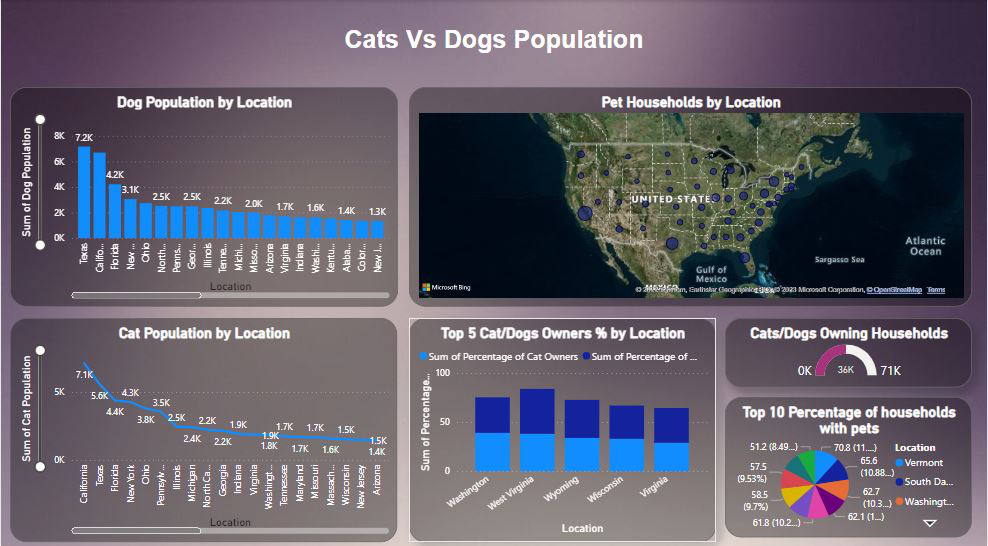

Layout of this report page (visuals, bound fields, positions):
{"tool":"powerbi","page":{"name":"Cats Vs Dogs Population","canvas":[1306,726],"ordinal":0},"visuals":[{"type":"lineChart","title":"Cat Population by Location","fields":{"Category":["States.Location"],"Y":["Sum(States.Cat Population)"]},"box":[12.3,421.6,513.4,297.1],"z":0},{"type":"pieChart","title":"Top 10 Percentage of households with pets ","fields":{"Y":["Sum(States.Percentage of households with pets)"],"Category":["States.Location"]},"box":[959.6,525.7,327.2,186.2],"z":1000},{"type":"map","title":"Pet Households  by Location","fields":{"Size":["Sum(States.Pet Households )"],"Category":["States.Location"]},"box":[540.5,115.3,745.9,291.5],"z":2000},{"type":"clusteredColumnChart","title":"Dog Population  by Location","fields":{"Category":["States.Location"],"Y":["Sum(States.Dog Population )"]},"box":[11.9,115.3,514,291.5],"z":3000},{"type":"gauge","title":"Cats/Dogs Owning Households","fields":{"Y":["Sum(States.Cat Owning Households)"]},"box":[959.6,421.6,327.2,91.7],"z":3001},{"type":"lineStackedColumnComboChart","title":"Top 5 Cat/Dogs  Owners % by Location","fields":{"Y":["Sum(States.Percentage of Cat Owners)","Sum(States.Percentage of Dog Owners)"],"Category":["States.Location"]},"box":[540.7,421.6,406.6,297.1],"z":3002},{"type":"textbox","title":"Cats  Vs Dogs Population","box":[318,33.1,670.4,64.9],"z":3003}]}

Visuals, with their boxes in screenshot pixels (x1, y1, x2, y2), scaled from the page's 1306x726 canvas onto the 988x546 screenshot:
"Cat Population by Location" lineChart: <region>9, 317, 398, 541</region>
"Top 10 Percentage of households with pets " pieChart: <region>726, 395, 973, 535</region>
"Pet Households  by Location" map: <region>409, 87, 973, 306</region>
"Dog Population  by Location" clusteredColumnChart: <region>9, 87, 398, 306</region>
"Cats/Dogs Owning Households" gauge: <region>726, 317, 973, 386</region>
"Top 5 Cat/Dogs  Owners % by Location" lineStackedColumnComboChart: <region>409, 317, 717, 541</region>
"Cats  Vs Dogs Population" textbox: <region>241, 25, 748, 74</region>
